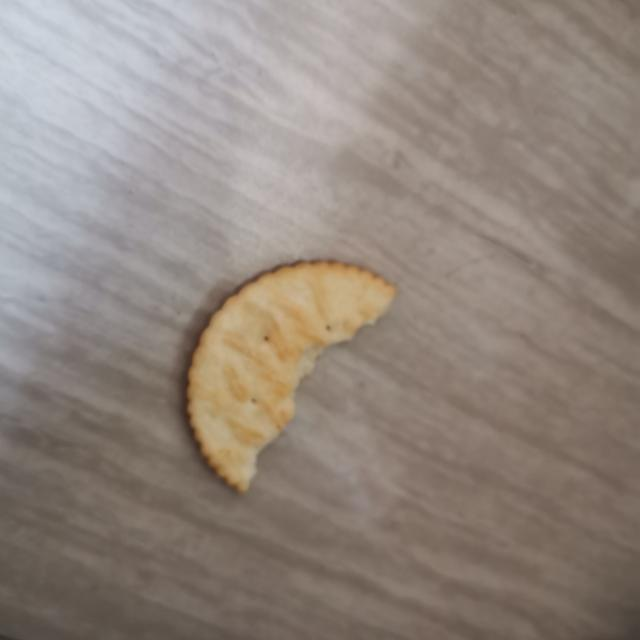Broken: (185, 258, 397, 494)
